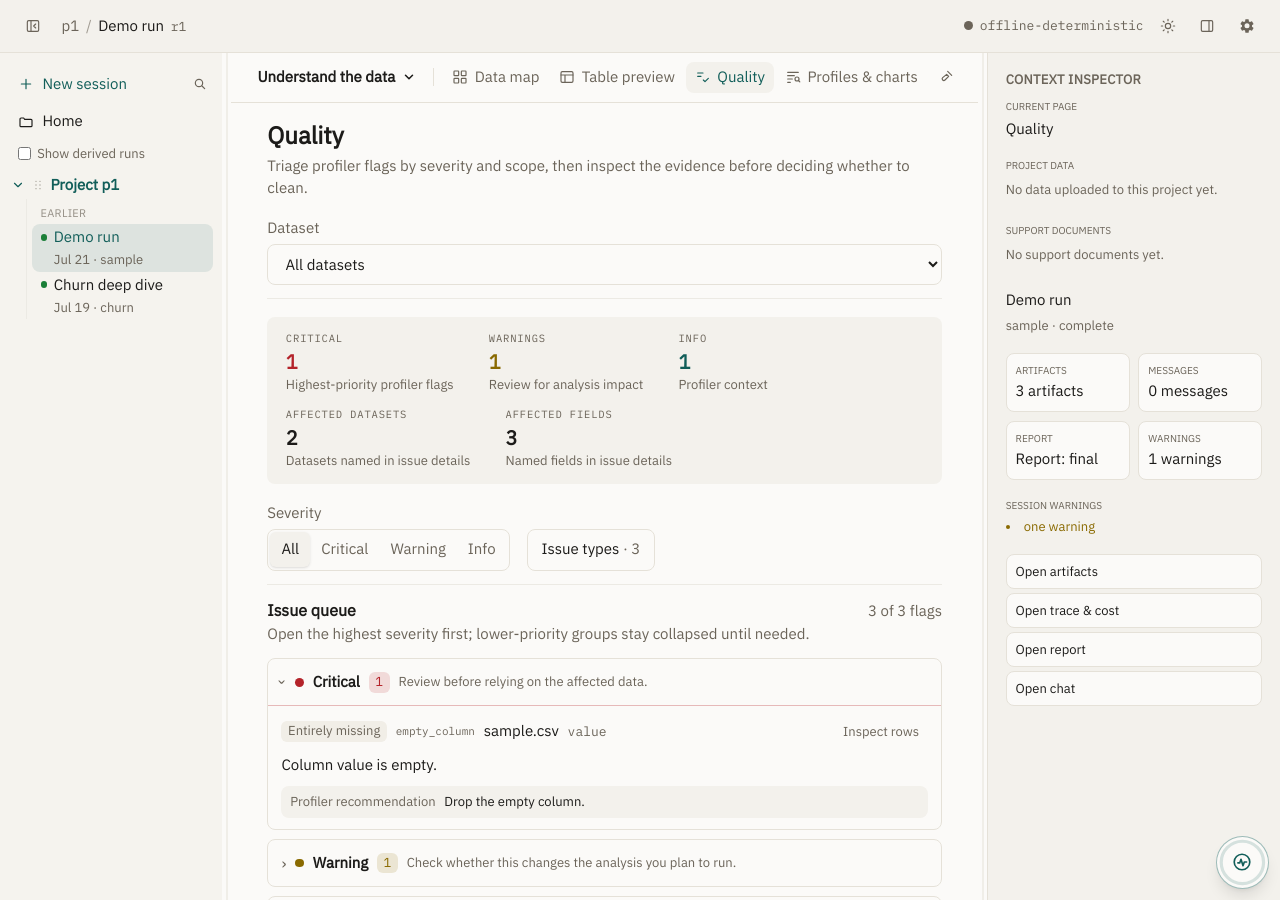
Scenario: Quality page › scopes the issue list from the shared dataset selector
expect the text "Column value is empty." is shown: met, box 282,755 -> 437,774
Select "other.csv" in the dropdown labelled "Dataset": (605, 264) 267,244 -> 942,285
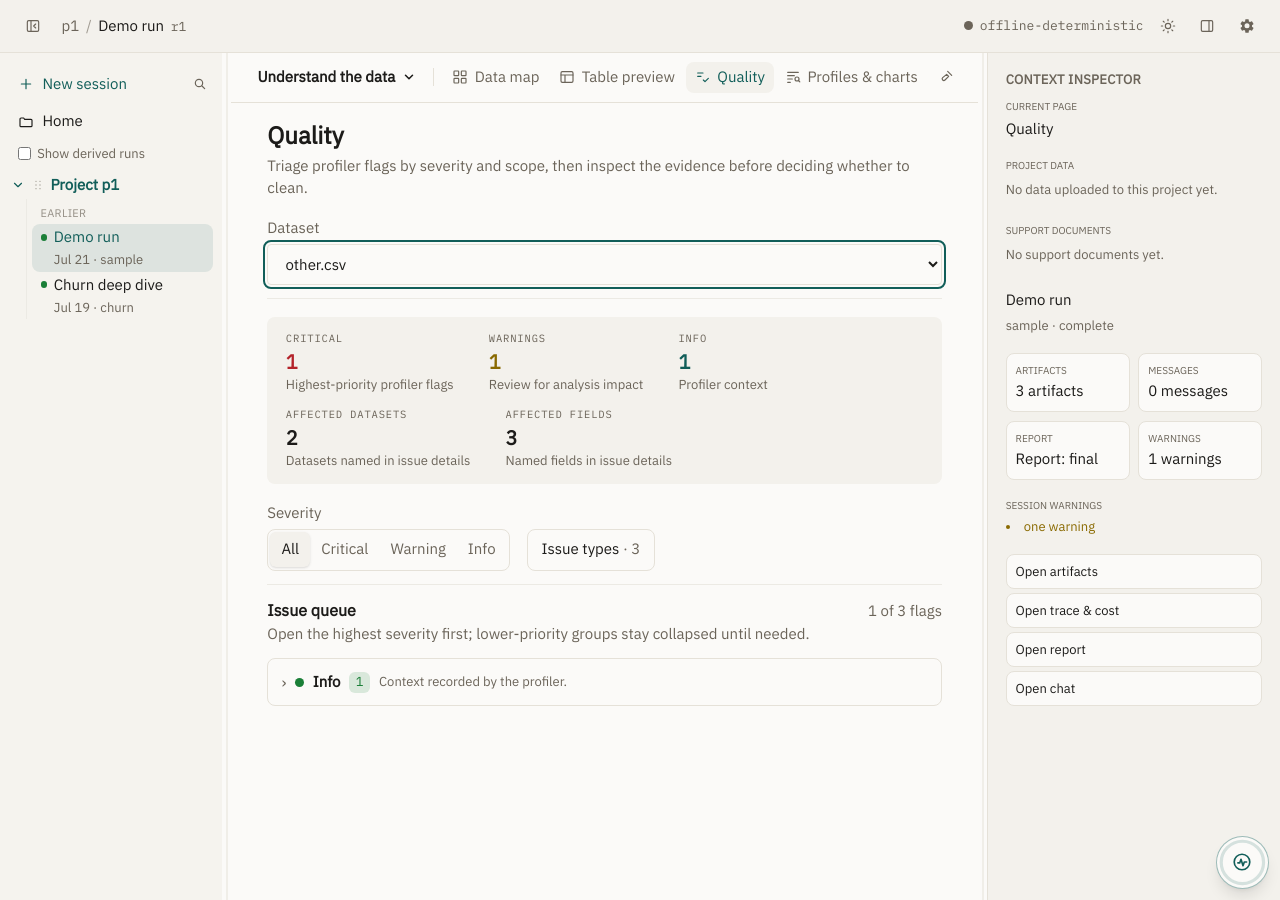
expect the text "Column value is empty." is gone: met
